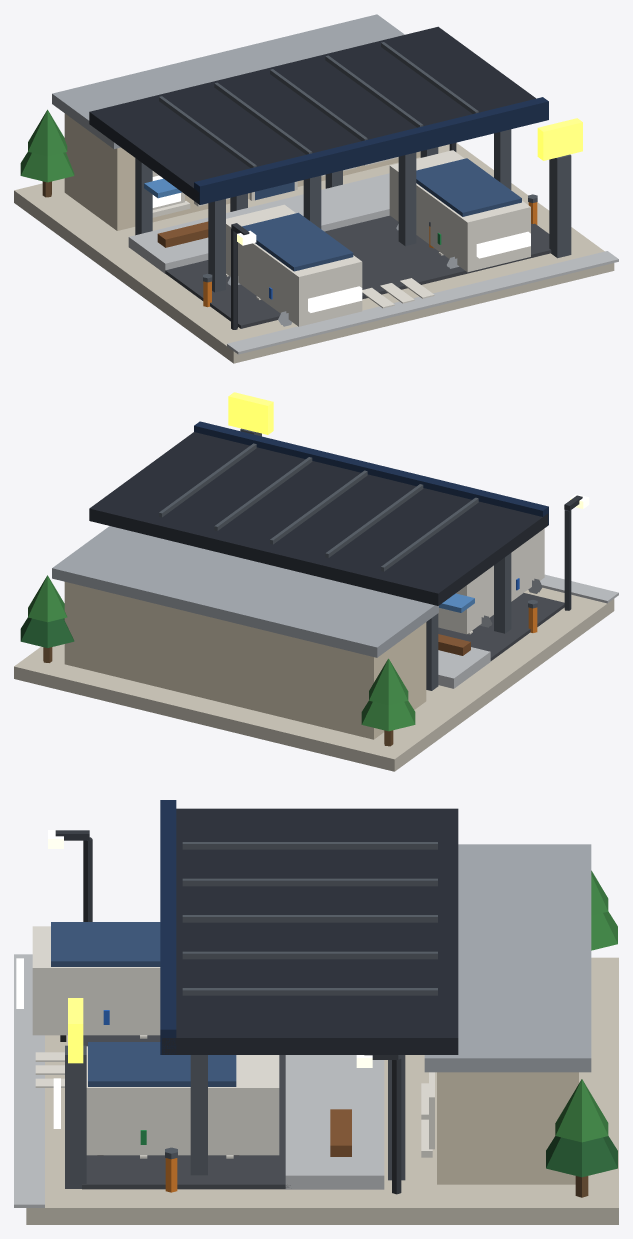
The picture shows the model from 3 angles, top to bottom: view 1: azimuth 30°, elevation 25°; view 2: azimuth 150°, elevation 25°; view 3: azimuth 270°, elevation 25°; orthographic projection. The views are drawn at different scales.
Parts seen in each view (by area): view 1: b31_v2; view 2: b31_v2; view 3: b31_v2.
Boxes of the visible parts, bbox=[...] form: b31_v2: bbox=[14, 14, 618, 363]; b31_v2: bbox=[14, 392, 618, 771]; b31_v2: bbox=[14, 800, 618, 1224].
Size of the model in its own units: 0.995 by 0.34 by 0.98.
